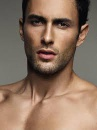male: (17, 1, 91, 78)
